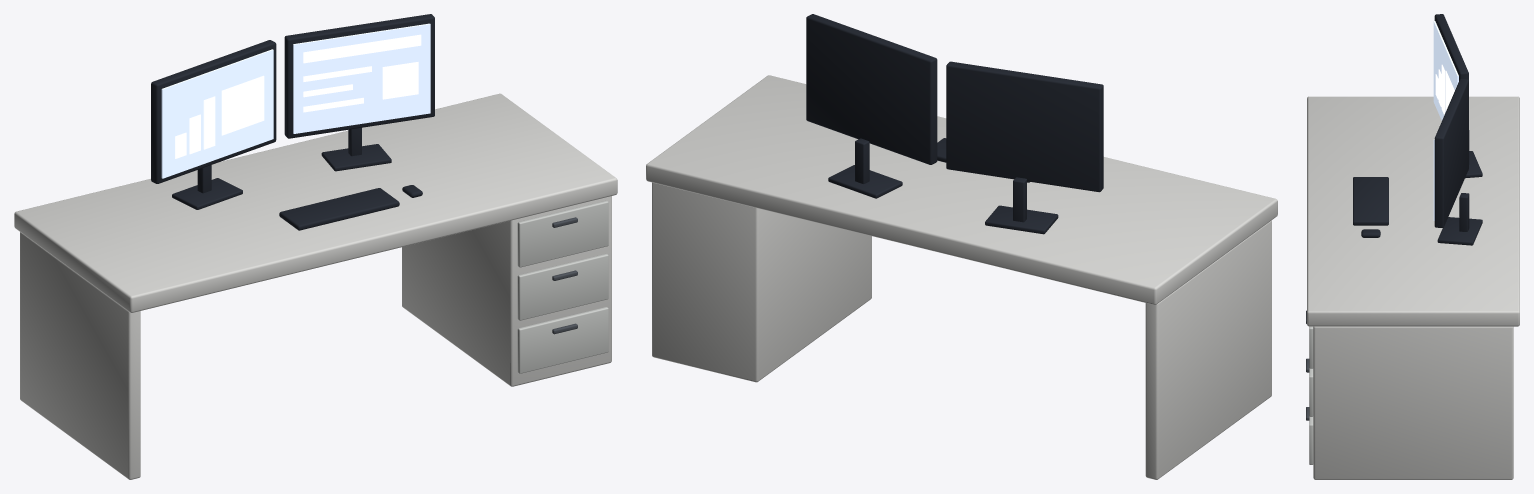
Rendered from station-ceo.glb.
3 views of the same model, side by side, from view 1: azimuth 30°, elevation 25°; view 2: azimuth 150°, elevation 25°; view 3: azimuth 270°, elevation 25° (orthographic). The views are drawn at different scales.
Visible parts, largest first — view 1: DeskTop.003, PanelLeg.005, Pedestal.001, Screen.005, Screen.004, DrawerFront.004, DrawerFront.005, DrawerFront.003, MonitorFrame.004, MonitorFrame.003, Keyboard.003, UiPanel (+5 smaller); view 2: DeskTop.003, Pedestal.001, PanelLeg.005, MonitorFrame.003, MonitorFrame.004, MonitorFoot.003, MonitorFoot.004; view 3: DeskTop.003, Pedestal.001, MonitorFrame.004, Keyboard.003, Screen.004, MonitorFoot.004, MonitorFrame.003, MonitorNeck.004, MonitorFoot.003, DrawerFront.004, DrawerFront.003, UiPanel.
Boxes of the visible parts, left/top/right/bottom form: DeskTop.003: left=14, top=93, right=617, bottom=312; PanelLeg.005: left=20, top=232, right=140, bottom=479; Pedestal.001: left=402, top=196, right=611, bottom=386; Screen.005: left=293, top=23, right=430, bottom=133; Screen.004: left=161, top=49, right=273, bottom=178; DrawerFront.004: left=517, top=253, right=608, bottom=320; DrawerFront.005: left=517, top=200, right=608, bottom=267; DrawerFront.003: left=517, top=307, right=608, bottom=373; MonitorFrame.004: left=284, top=14, right=434, bottom=138; MonitorFrame.003: left=151, top=40, right=276, bottom=183; Keyboard.003: left=279, top=188, right=399, bottom=230; UiPanel: left=221, top=75, right=264, bottom=135; DeskTop.003: left=646, top=75, right=1277, bottom=304; Pedestal.001: left=652, top=182, right=871, bottom=382; PanelLeg.005: left=1145, top=220, right=1271, bottom=479; MonitorFrame.003: left=946, top=61, right=1103, bottom=192; MonitorFrame.004: left=806, top=14, right=937, bottom=164; MonitorFoot.003: left=985, top=205, right=1058, bottom=234; MonitorFoot.004: left=828, top=165, right=902, bottom=198; DeskTop.003: left=1307, top=96, right=1519, bottom=326; Pedestal.001: left=1313, top=326, right=1513, bottom=479; MonitorFrame.004: left=1434, top=78, right=1468, bottom=227; Keyboard.003: left=1353, top=177, right=1388, bottom=225; Screen.004: left=1433, top=21, right=1458, bottom=120; MonitorFoot.004: left=1437, top=217, right=1482, bottom=245; MonitorFrame.003: left=1434, top=14, right=1468, bottom=80; MonitorNeck.004: left=1459, top=193, right=1469, bottom=231; MonitorFoot.003: left=1465, top=151, right=1482, bottom=178; DrawerFront.004: left=1309, top=368, right=1313, bottom=416; DrawerFront.003: left=1309, top=416, right=1313, bottom=464; UiPanel: left=1445, top=70, right=1454, bottom=111.
Size of the model in its own units: 2.4 by 1.52 by 1.
